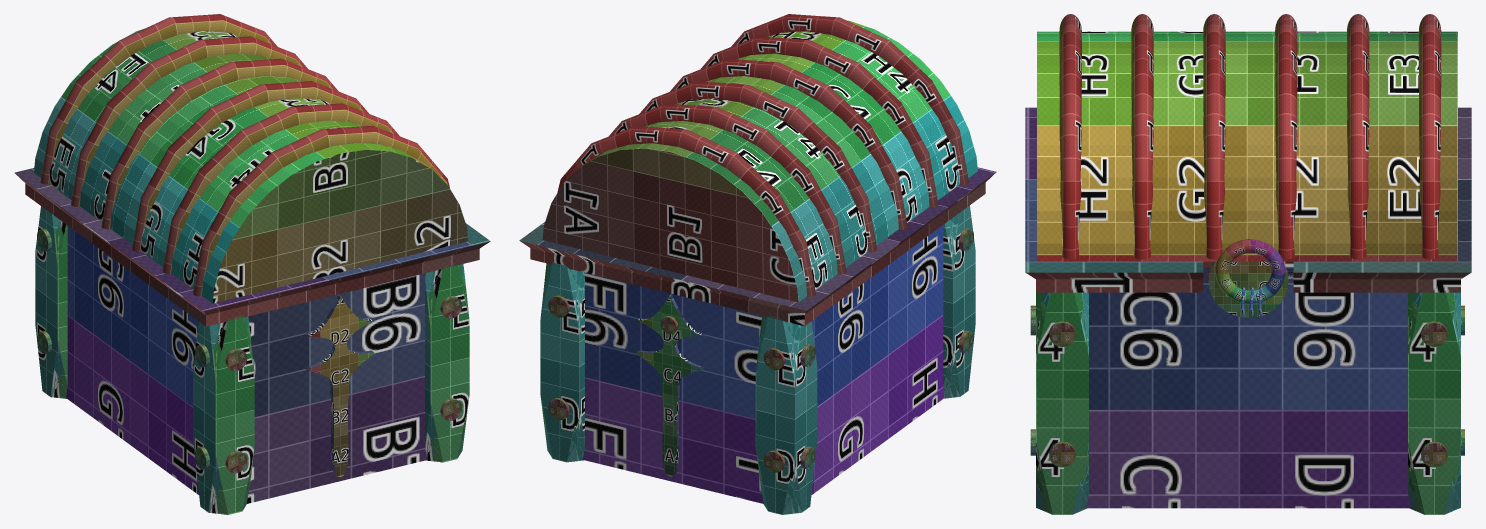
File: cofre2.glb
3 views of the same model, side by side, from view 1: azimuth 30°, elevation 25°; view 2: azimuth 150°, elevation 25°; view 3: azimuth 270°, elevation 25° (orthographic). The views are drawn at different scales.
Parts seen in each view (by area): view 1: Tapadera, Caja, CilindroAdornoTapa, Refuerzos, MarcoSup, AdornoFlecha, TornillosZ, TornillosX; view 2: Tapadera, Caja, CilindroAdornoTapa, Refuerzos, MarcoSup, AdornoFlecha, TornillosZ, TornillosX; view 3: Tapadera, Caja, CilindroAdornoTapa, Refuerzos, MarcoSup, Cerradura, Gancho, TornillosX, TornillosZ.
Part boxes in pixels (x1=…): Tapadera: x1=34, y1=28, x2=468, y2=303; Caja: x1=66, y1=226, x2=427, y2=503; CilindroAdornoTapa: x1=40, y1=14, x2=449, y2=296; Refuerzos: x1=35, y1=206, x2=469, y2=514; MarcoSup: x1=14, y1=168, x2=490, y2=326; AdornoFlecha: x1=305, y1=294, x2=373, y2=476; TornillosZ: x1=225, y1=296, x2=462, y2=473; TornillosX: x1=37, y1=229, x2=466, y2=469; Tapadera: x1=542, y1=20, x2=977, y2=302; Caja: x1=582, y1=225, x2=944, y2=503; CilindroAdornoTapa: x1=557, y1=14, x2=968, y2=297; Refuerzos: x1=540, y1=205, x2=975, y2=514; MarcoSup: x1=519, y1=167, x2=996, y2=326; AdornoFlecha: x1=636, y1=294, x2=704, y2=476; TornillosZ: x1=548, y1=295, x2=784, y2=472; TornillosX: x1=543, y1=228, x2=973, y2=469; Tapadera: x1=1037, y1=31, x2=1457, y2=261; Caja: x1=1086, y1=267, x2=1410, y2=508; CilindroAdornoTapa: x1=1059, y1=14, x2=1441, y2=259; Refuerzos: x1=1036, y1=292, x2=1460, y2=514; MarcoSup: x1=1025, y1=107, x2=1471, y2=292; Cerradura: x1=1208, y1=261, x2=1288, y2=317; Gancho: x1=1215, y1=239, x2=1285, y2=303; TornillosX: x1=1049, y1=321, x2=1447, y2=467; TornillosZ: x1=1030, y1=305, x2=1464, y2=455.
Size of the model in its own units: 3.03 by 3.4 by 3.36.
12 materials, 12 textured.
